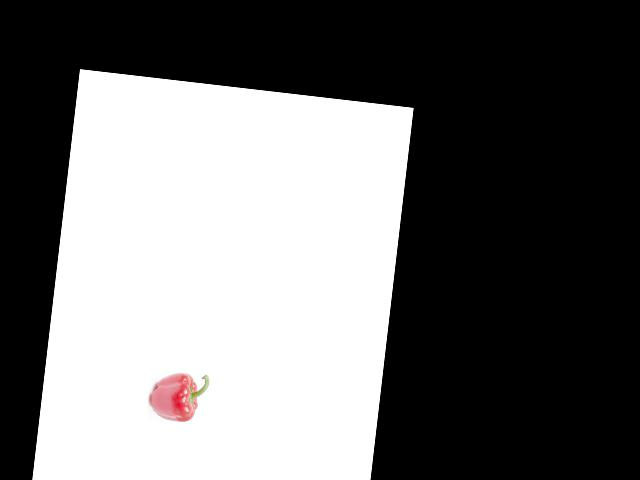bell_pepper: (146, 365, 211, 428)
